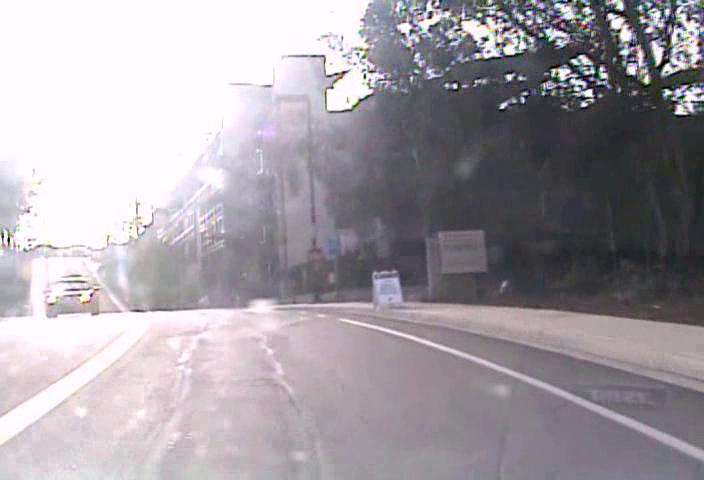stop: (306, 246, 324, 265)
